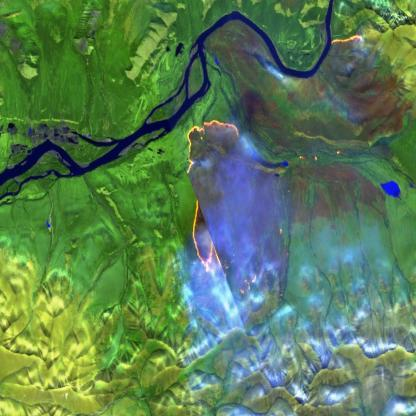fire: (184, 112, 260, 300), (328, 30, 364, 49)
